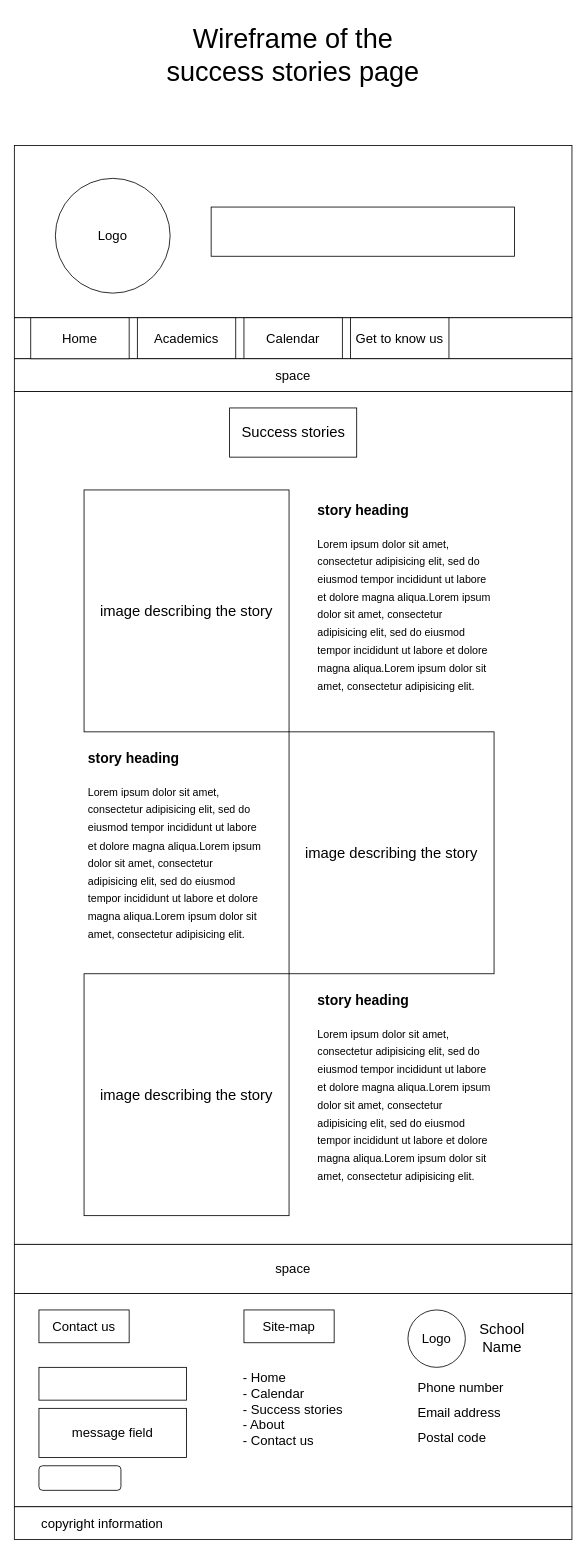
The diagram is 586 pixels wide and 1554 high, and some of its shapes have lost their labels. Here are the shapes that lost their labels. From the top down, the centre of each, then its label:
point 362,231: Moto
point 112,1383: email field
point 79,1477: submit
